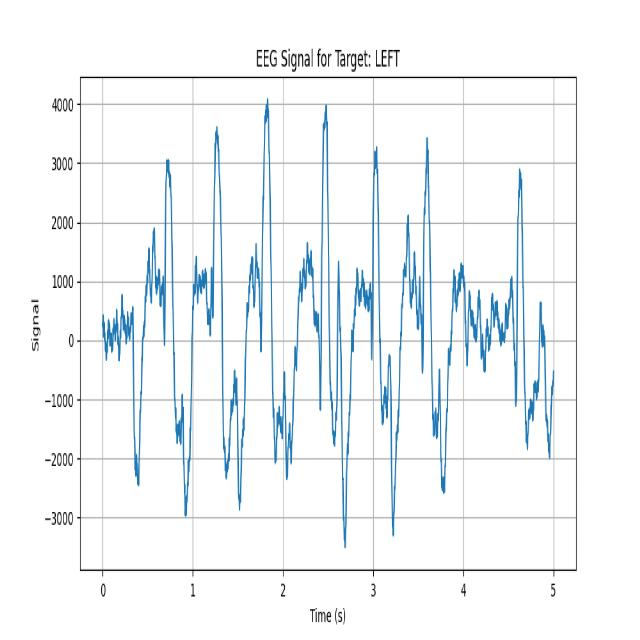LEFT: (133, 103, 186, 535), (346, 103, 397, 544), (243, 99, 291, 525), (295, 100, 340, 552), (192, 100, 239, 521), (403, 99, 446, 531), (498, 99, 541, 491)
